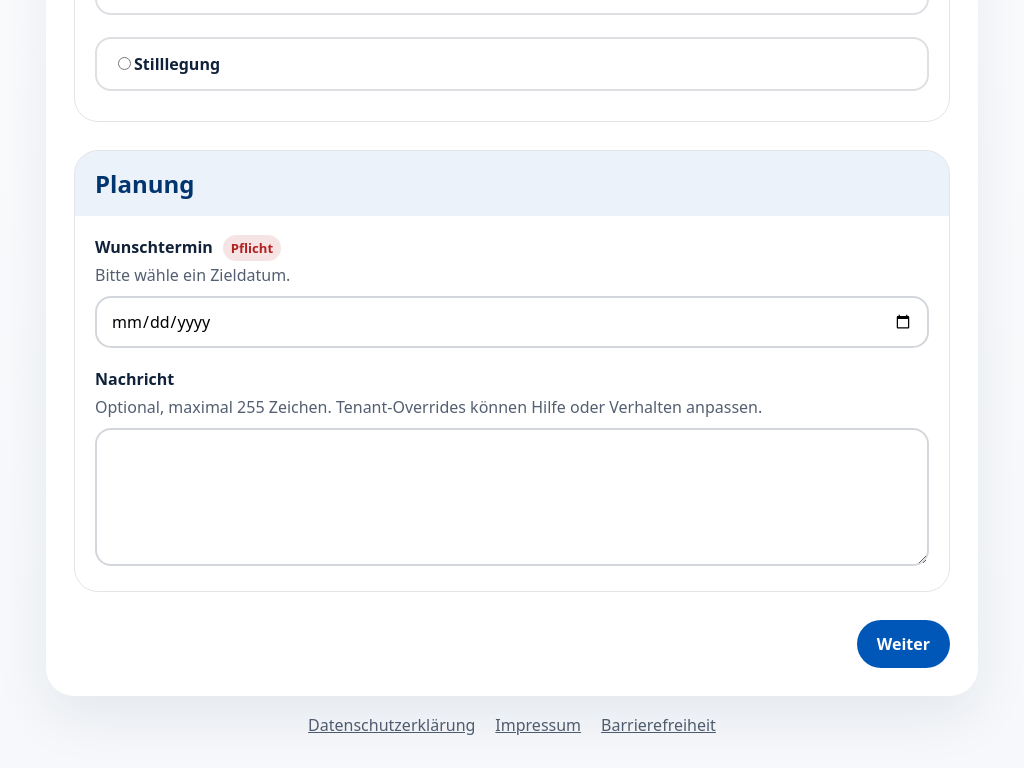
Scenario: AntragsdetailsWizard › shows page-level and field-level validation errors and blocks autosave
The width and height of the screenshot is (1024, 768).
(page scrolled)
Click the button "Weiter": (903, 644) [857,620,950,668]
(page scrolled)
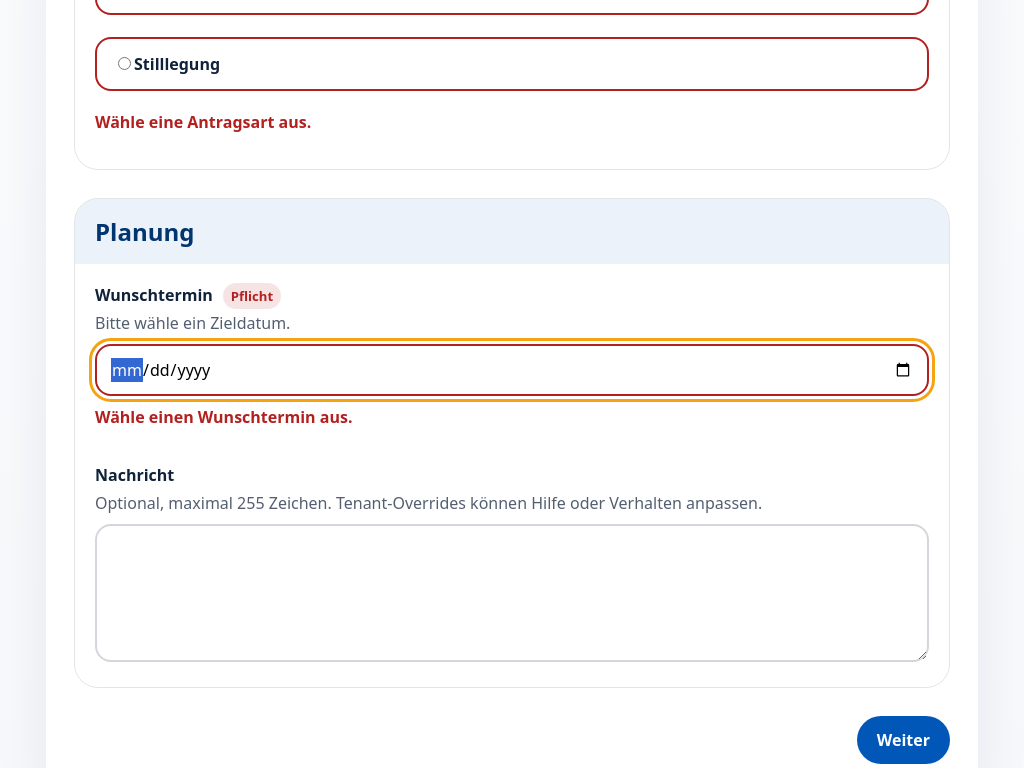
Expected: the text "Wähle eine Antragsart aus." is shown, [95,111,311,133]
Expected: the text "Wähle einen Wunschtermin aus." is shown, [95,406,352,428]
